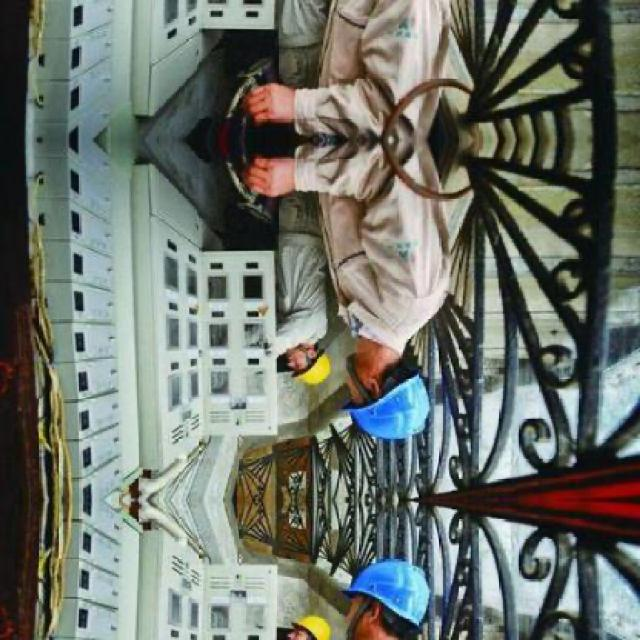con casco: (341, 344, 447, 449), (280, 333, 340, 395)
